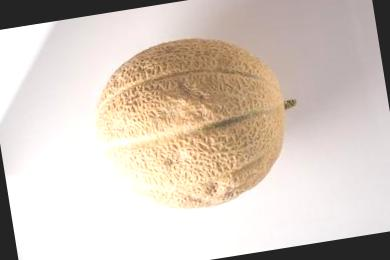Melon Ripe: (81, 20, 312, 224)
